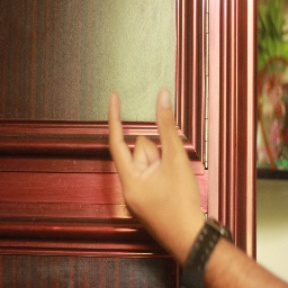U: (96, 85, 196, 226)
